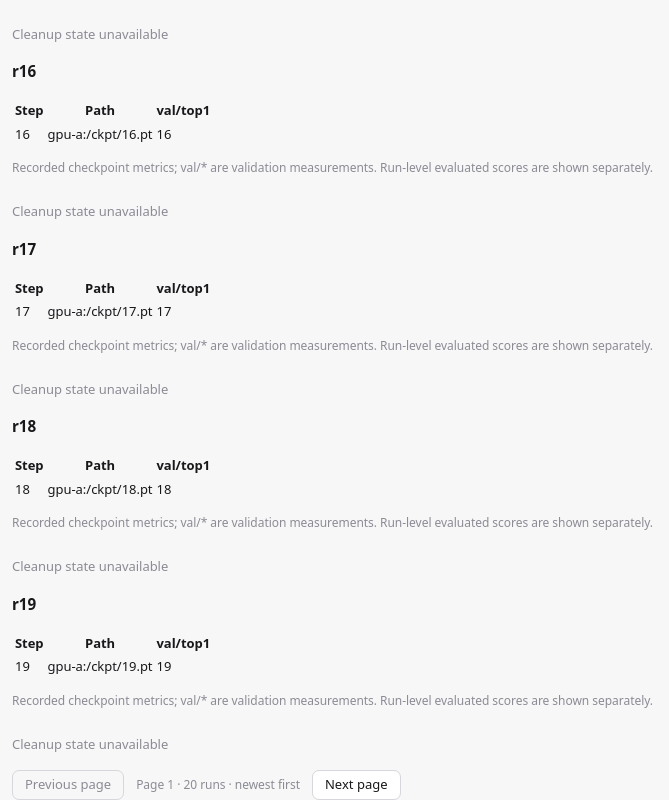
Test: checkpoint pages have bounded listing and preserve each run's attribution
The image size is (669, 800).
(page scrolled)
Expected: the link "r20" is not shown
Click the button "Next page" at (356, 785), box [312,770,400,799]
(page scrolled)
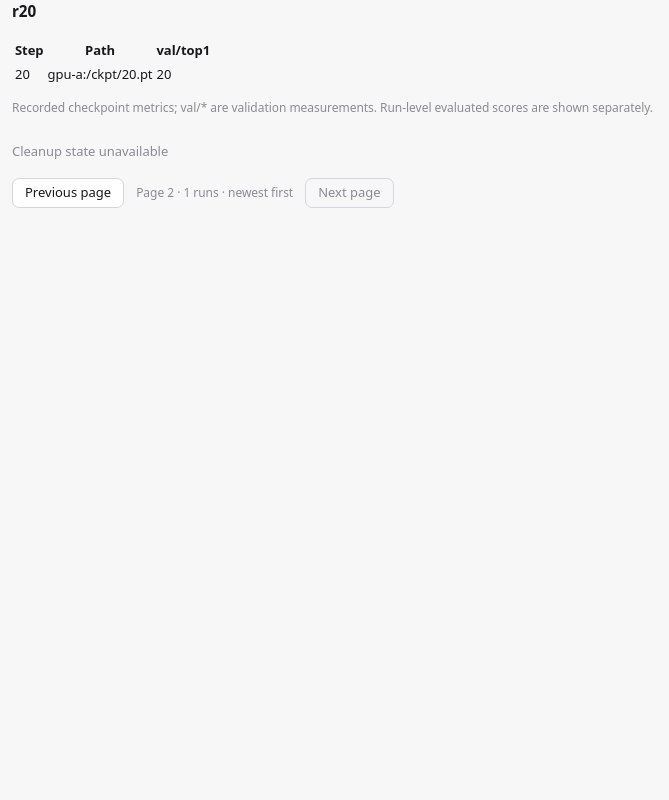
Now the link "r20" is shown, box [12,1,36,21]
